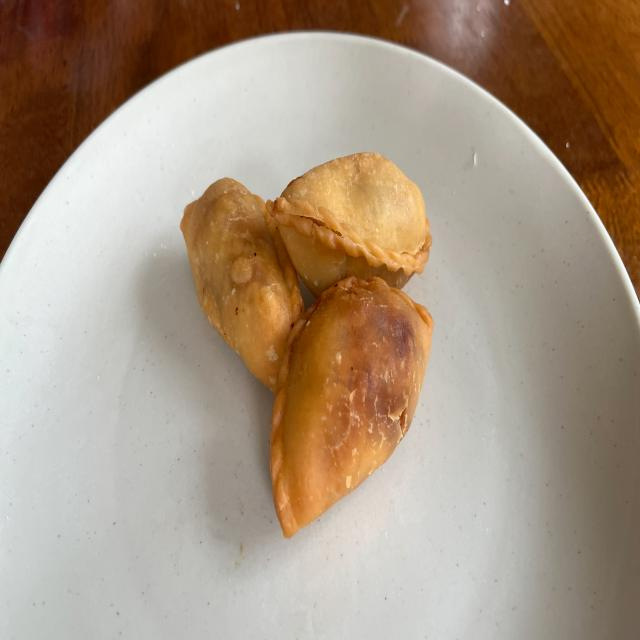karipap: (270, 278, 432, 538), (180, 178, 302, 391), (269, 153, 432, 296)
